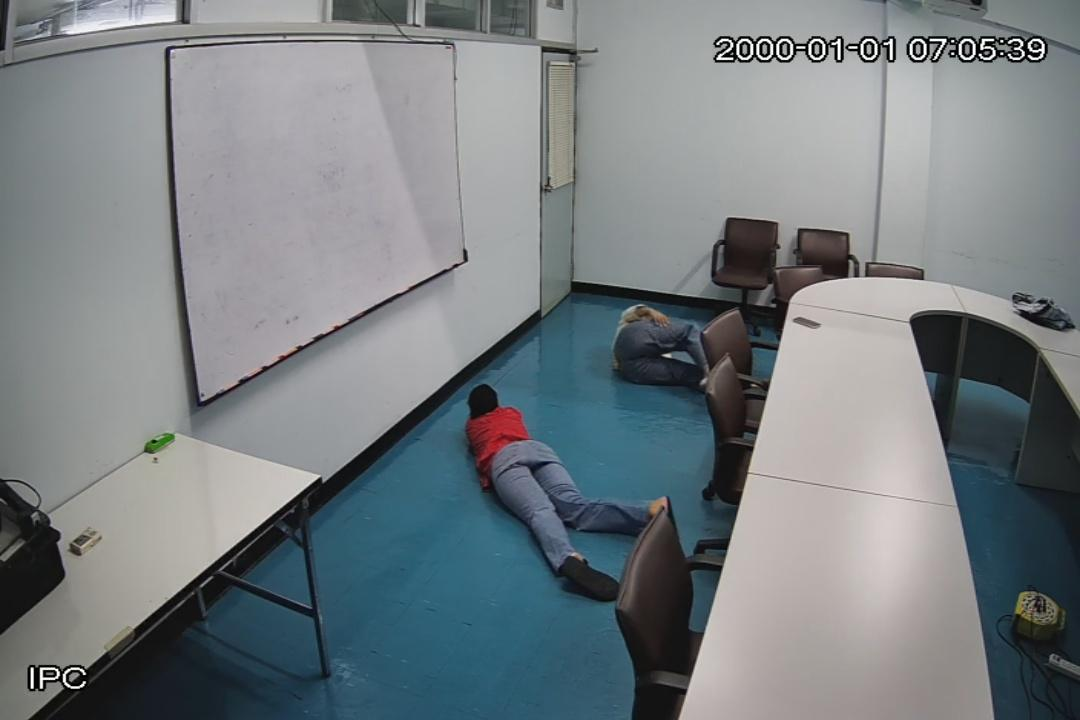fall: (450, 380, 678, 600), (606, 296, 726, 410)
